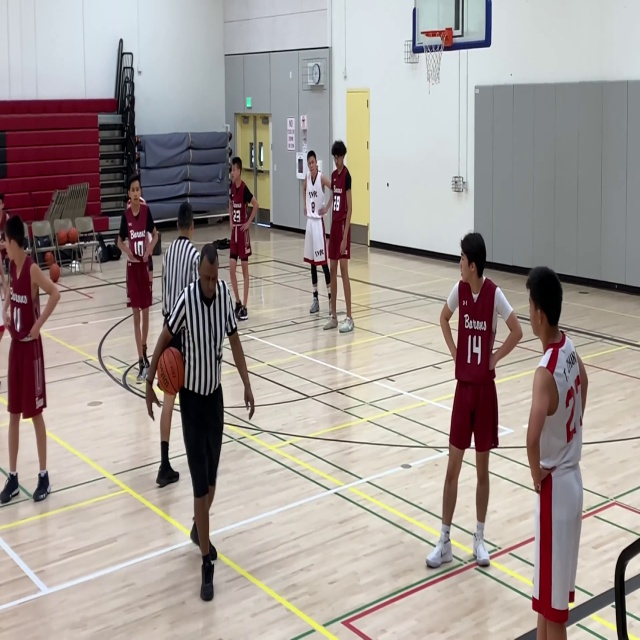Basketball: (156, 346, 185, 394), (67, 227, 79, 244), (56, 229, 68, 245), (50, 263, 60, 282), (44, 252, 54, 265)
